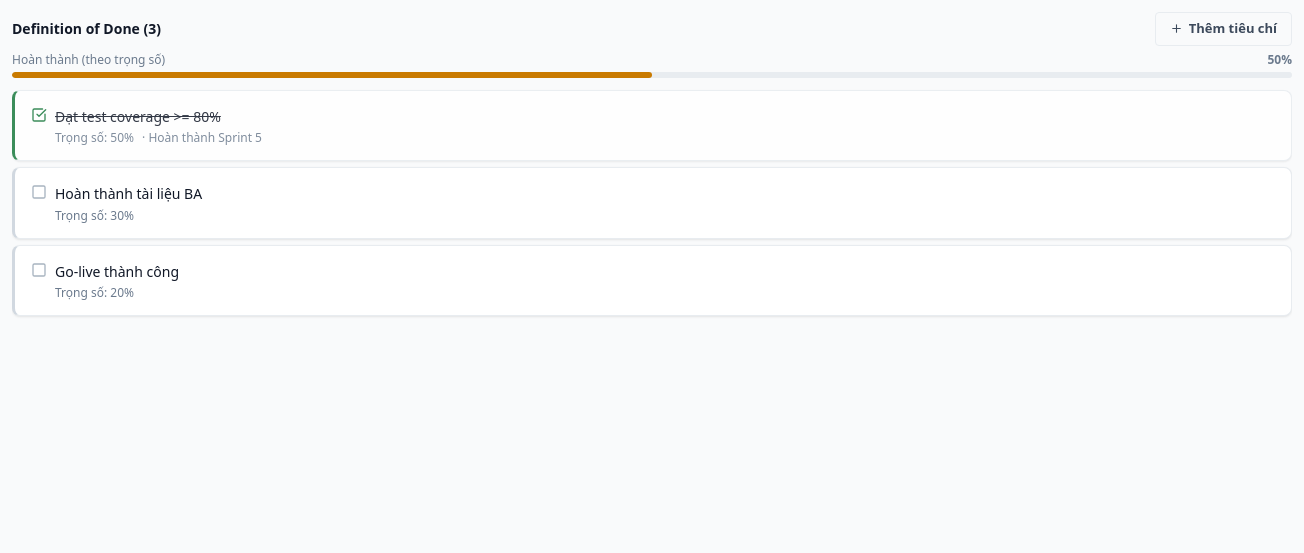
Test: DodItemList › shows add form when Add button clicked
This screenshot has width=1304, height=553.
Click the button "Thêm tiêu chí". click: (1223, 29)
box: [1155,12,1292,46]
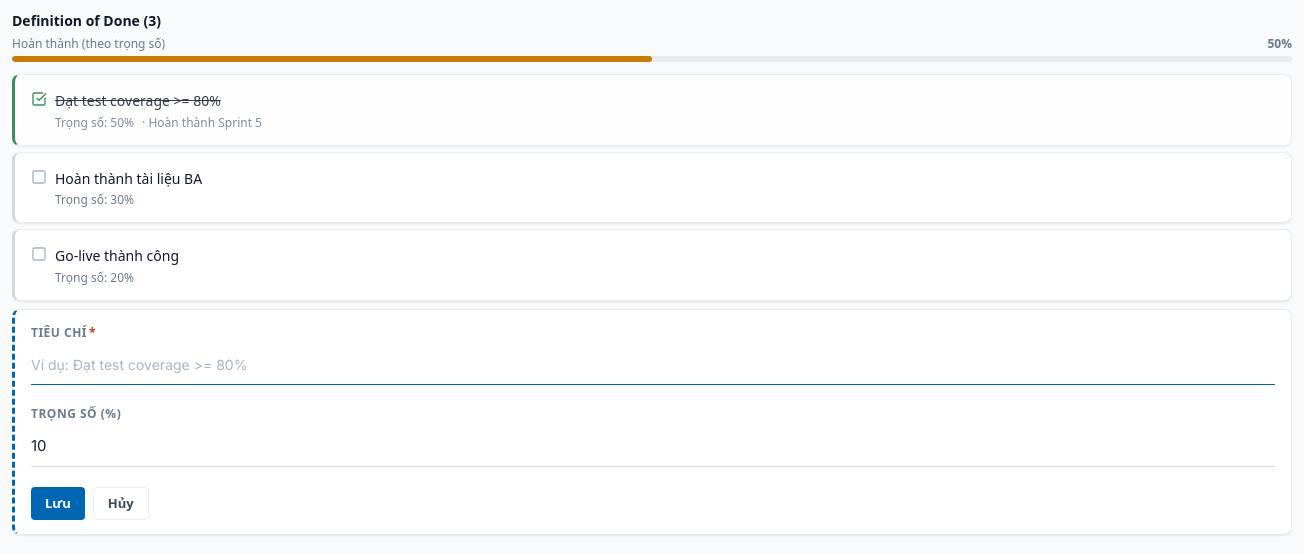
Now the field with placeholder "Ví dụ: Đạt test coverage >= 80%" is shown, box [31,346,1275,385]
